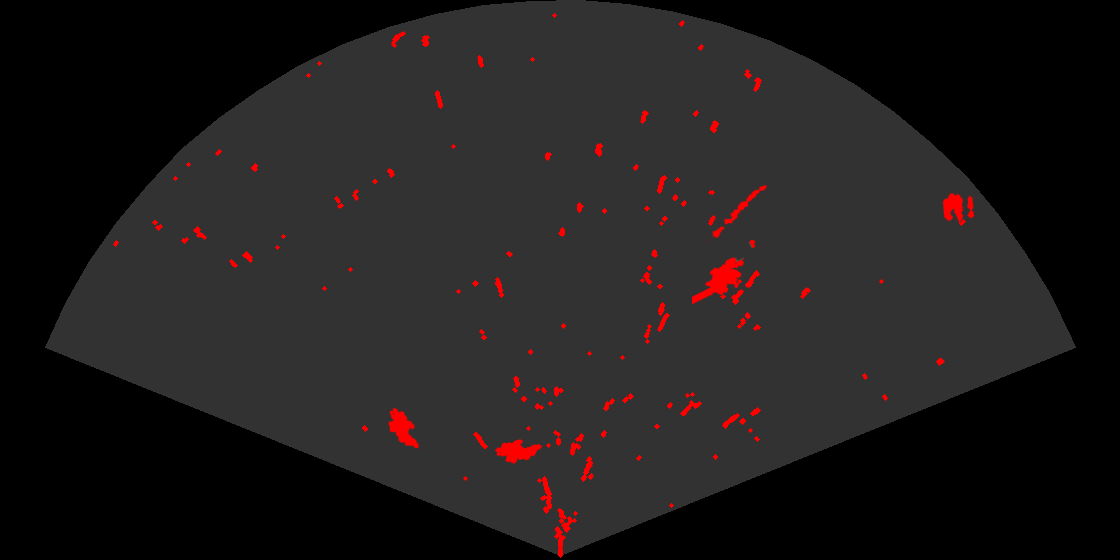AUV: (387, 406, 420, 450), (493, 438, 544, 465)
ball: (941, 192, 976, 223)
chain: (705, 183, 769, 243)
frogman: (692, 238, 757, 306)
